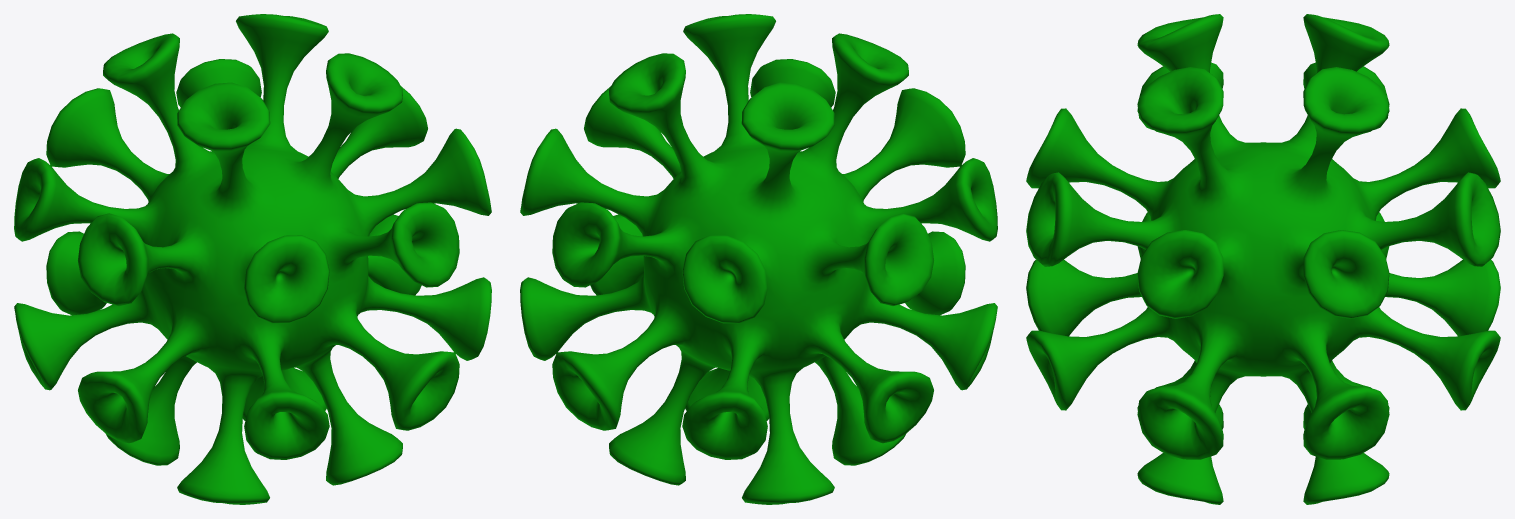
File: Virus.glb
3 views of the same model, side by side, from view 1: azimuth 30°, elevation 25°; view 2: azimuth 150°, elevation 25°; view 3: azimuth 270°, elevation 25° (orthographic). The views are drawn at different scales.
Visible parts, largest first — view 1: Cube; view 2: Cube; view 3: Cube.
Part boxes in pixels (x1,y1,x2,y2): Cube: [14, 14, 491, 504]; Cube: [520, 14, 997, 504]; Cube: [1026, 14, 1500, 504].
Size of the model in its own units: 3.09 by 3.09 by 3.09.
